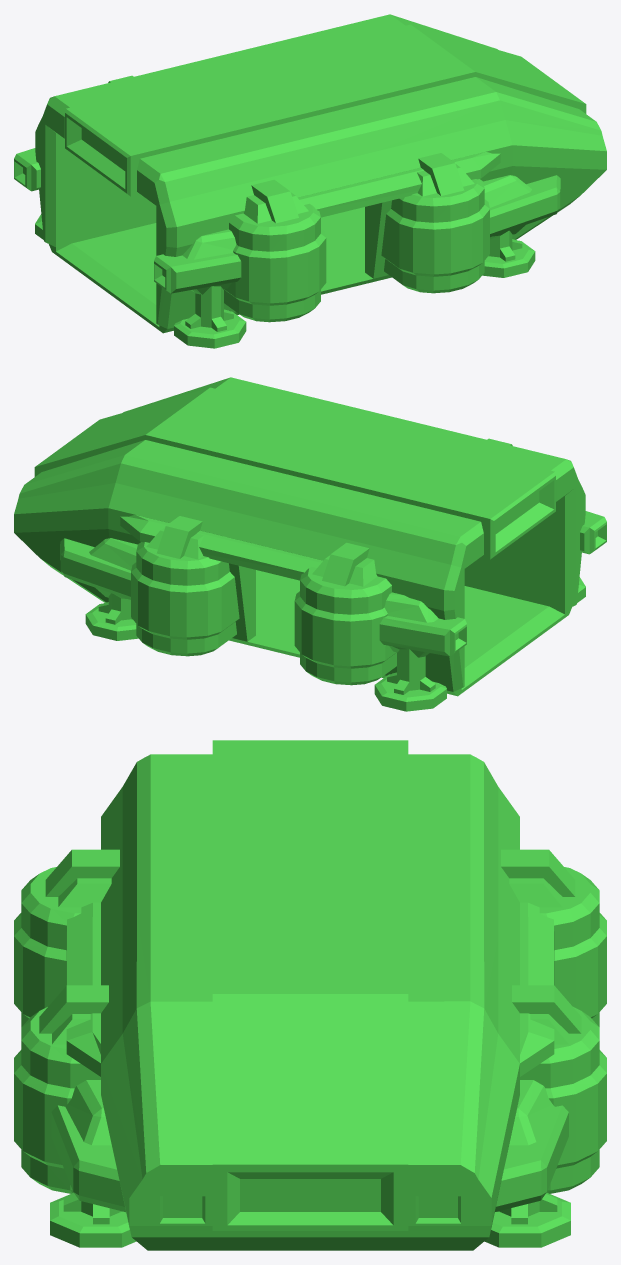
Rendered from DropsShip_PackedUVW.obj.
The picture shows the model from 3 angles, top to bottom: view 1: azimuth 30°, elevation 25°; view 2: azimuth 150°, elevation 25°; view 3: azimuth 270°, elevation 25°; orthographic projection. The views are drawn at different scales.
Visible parts, largest first — view 1: Target; view 2: Target; view 3: Target.
Boxes of the visible parts, left/top/right/bottom form: Target: left=14, top=14, right=606, bottom=348; Target: left=14, top=377, right=606, bottom=711; Target: left=14, top=740, right=606, bottom=1250.
Size of the model in its own units: 1654 by 554 by 1214.
